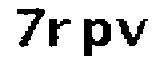7: (11, 5, 46, 51)
p: (78, 14, 111, 60)
r: (45, 16, 76, 51)
v: (115, 16, 150, 50)
